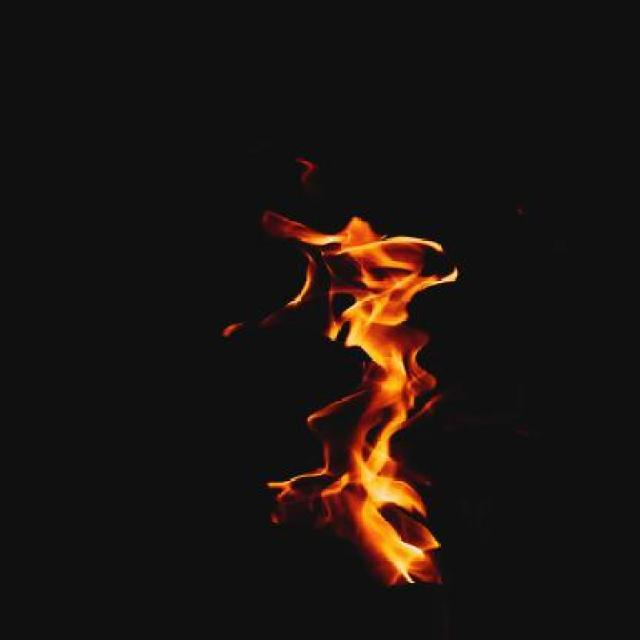Fire: (215, 150, 456, 585)
